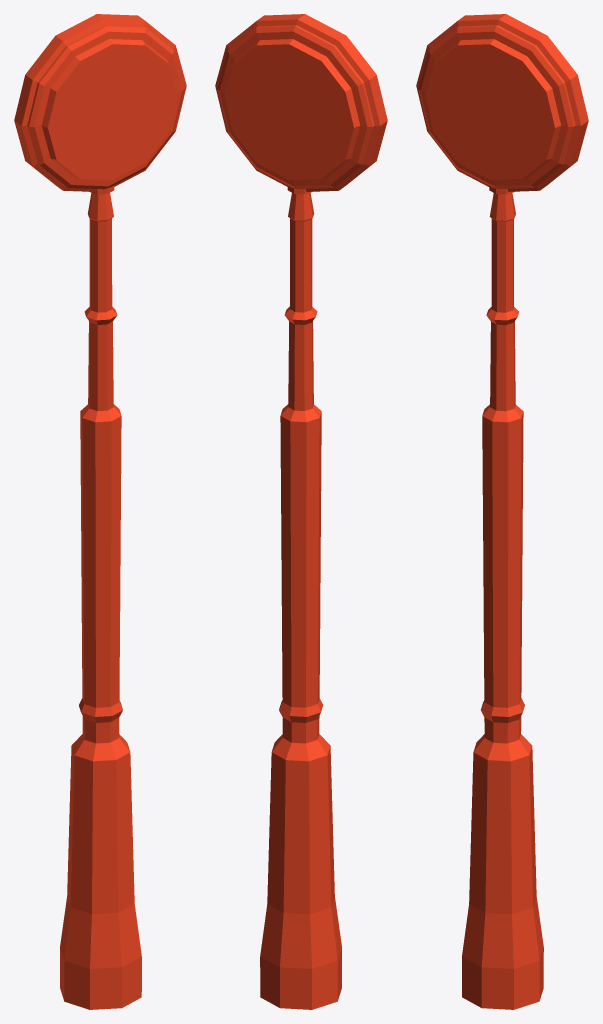
File: SM_Clock_C_City.fbx
3 views of the same model, side by side, from view 1: azimuth 30°, elevation 25°; view 2: azimuth 150°, elevation 25°; view 3: azimuth 330°, elevation 25° (orthographic).
Visible parts, largest first — view 1: SM_Clock_C_City; view 2: SM_Clock_C_City; view 3: SM_Clock_C_City.
Part boxes in pixels (bbox=[...]): SM_Clock_C_City: bbox=[14, 14, 186, 1009]; SM_Clock_C_City: bbox=[215, 14, 387, 1009]; SM_Clock_C_City: bbox=[416, 14, 588, 1009].
Size of the model in its own units: 0.6019 by 3.4 by 0.2676.
